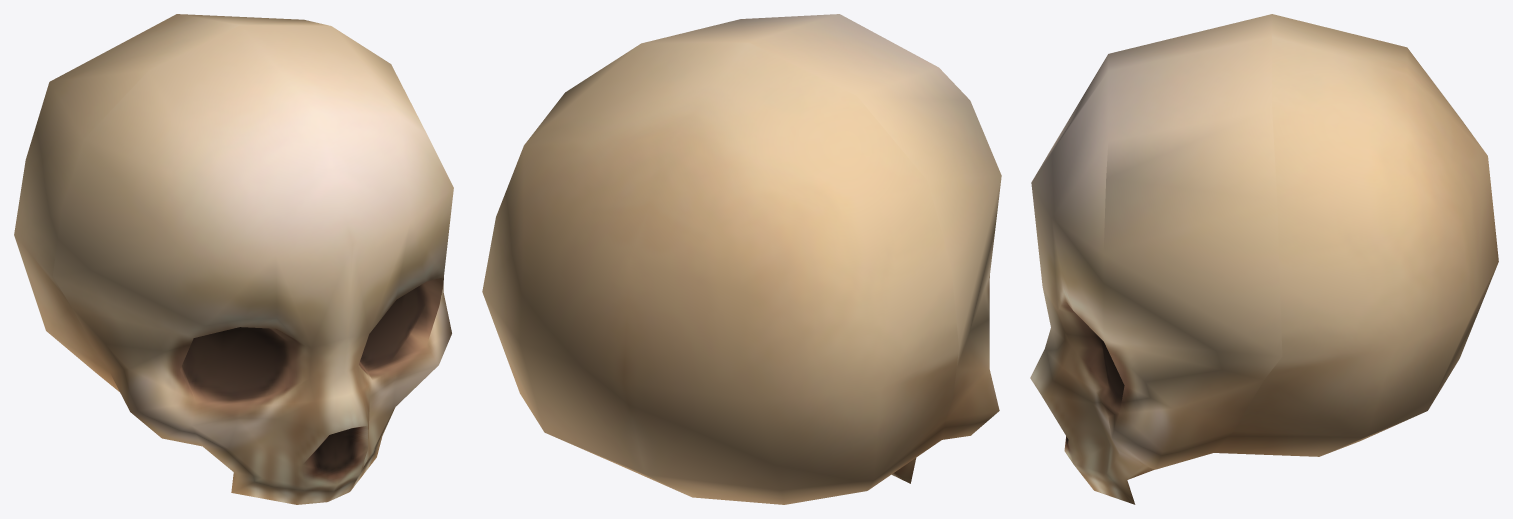
Rendered from skull.fbx.
3 views of the same model, side by side, from view 1: azimuth 30°, elevation 25°; view 2: azimuth 150°, elevation 25°; view 3: azimuth 270°, elevation 25° (orthographic). The views are drawn at different scales.
Parts seen in each view (by area): view 1: skull; view 2: skull; view 3: skull.
Boxes of the visible parts, <box> form: skull: <box>14,14,453,504</box>; skull: <box>482,14,1001,504</box>; skull: <box>1030,14,1498,504</box>.
Size of the model in its own units: 135 by 146 by 141.
Materials: 1 (1 with a texture image).
